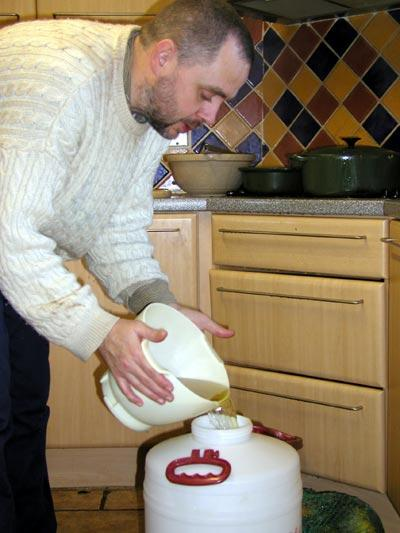person: (2, 4, 254, 533)
